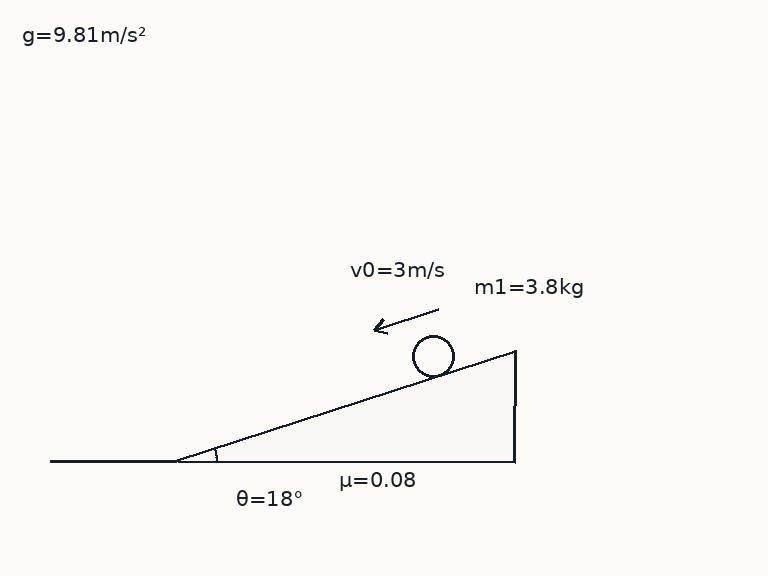ball: (410, 333, 456, 379)
ramp: (175, 349, 517, 463)
